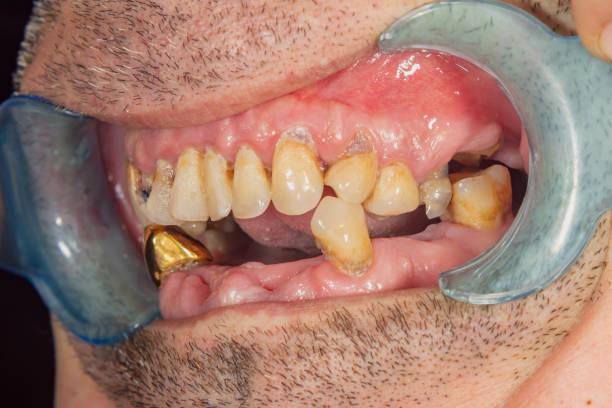Calculus: (322, 225, 384, 282), (464, 171, 517, 230), (272, 128, 323, 185), (332, 137, 384, 189)
Caries: (128, 169, 161, 207)
Discoloration: (146, 221, 209, 279), (420, 164, 457, 219)
Hypodontia: (263, 228, 320, 301), (208, 241, 261, 306), (410, 205, 456, 257)
